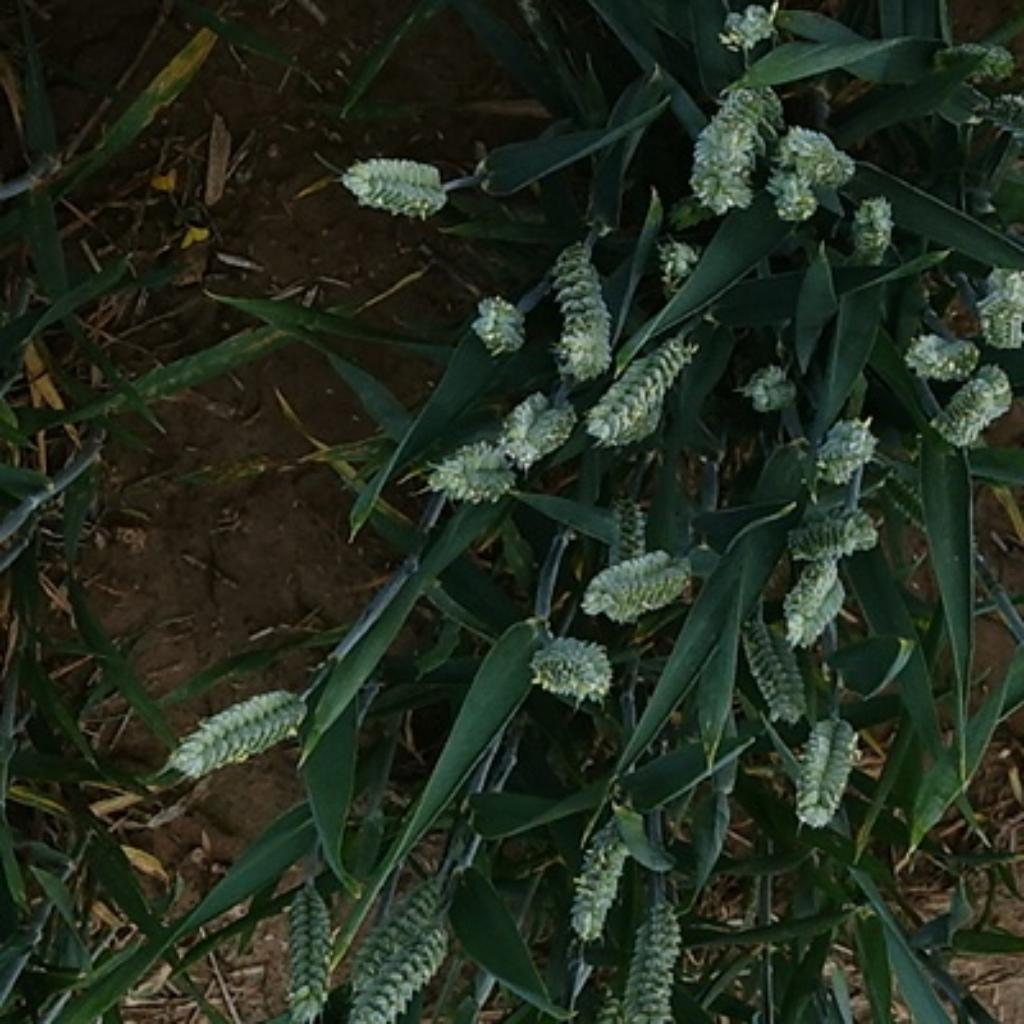0-0: (578, 314, 706, 445), (163, 673, 314, 770), (337, 870, 448, 1000), (675, 71, 778, 207), (545, 230, 619, 381), (343, 919, 448, 1024), (778, 709, 860, 829), (578, 540, 698, 622), (931, 358, 1018, 470), (332, 145, 453, 215), (734, 614, 811, 721), (770, 545, 852, 645), (419, 424, 517, 506), (279, 878, 335, 1018), (624, 898, 686, 1024), (560, 826, 629, 939), (519, 624, 619, 701), (778, 496, 888, 563), (783, 112, 857, 202), (499, 384, 578, 463), (893, 320, 983, 384), (806, 407, 880, 483), (970, 256, 1024, 345), (760, 168, 832, 232), (463, 286, 529, 355), (929, 33, 1021, 81), (842, 189, 901, 263), (603, 482, 654, 567), (970, 81, 1024, 158), (642, 222, 706, 286), (734, 353, 803, 412), (711, 0, 785, 51)
